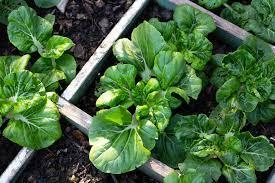Healthy-Pechay: (94, 4, 273, 178), (1, 5, 76, 148)
